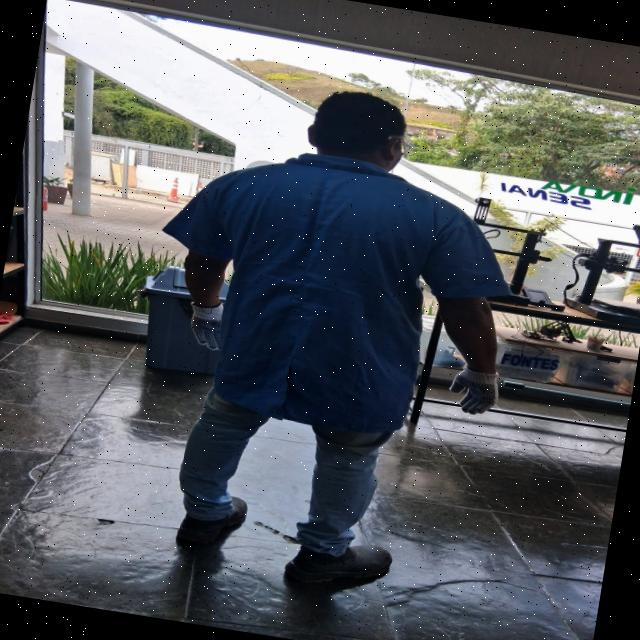BOTA: (275, 541, 391, 591), (173, 491, 259, 543)
JALECO: (148, 150, 519, 435)
LUVA: (445, 365, 505, 418), (187, 299, 231, 350)
